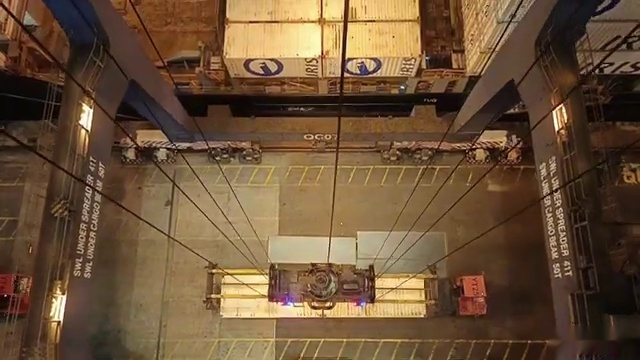container: (206, 265, 437, 321), (222, 22, 428, 78), (214, 0, 430, 35), (207, 1, 436, 31), (222, 7, 421, 41), (213, 0, 437, 22), (210, 0, 435, 20), (213, 0, 437, 16)
guide_mark: (75, 340, 550, 360), (110, 164, 538, 185)
spreader: (200, 261, 442, 312)
target_slot: (196, 255, 442, 327)
